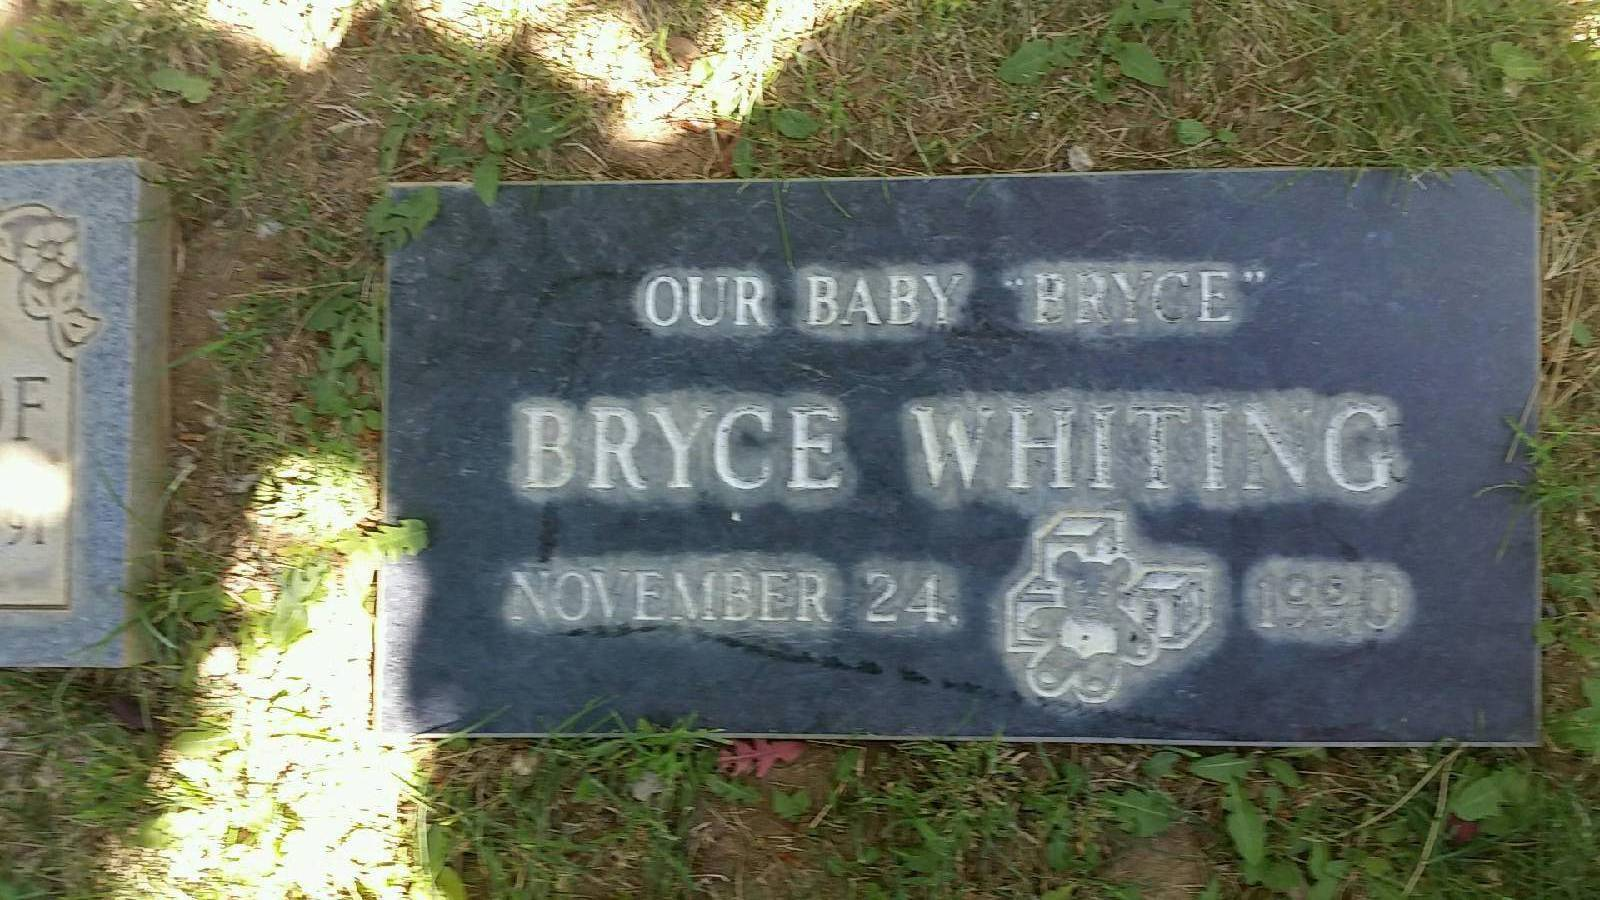flat: (384, 162, 1545, 749)
